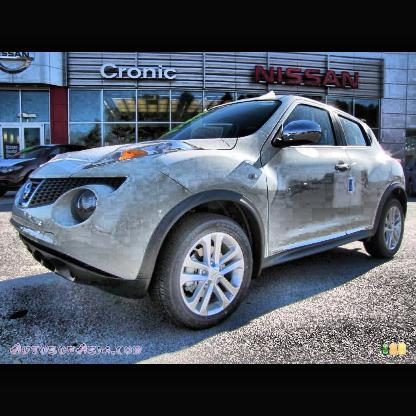Nissan Juke Hatchback 2012: (13, 91, 412, 327)
